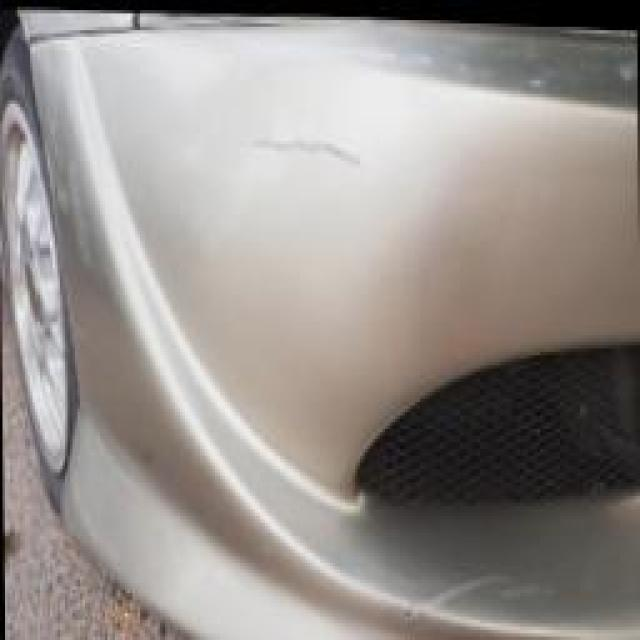Bumper: (230, 104, 425, 282), (345, 506, 562, 640)
